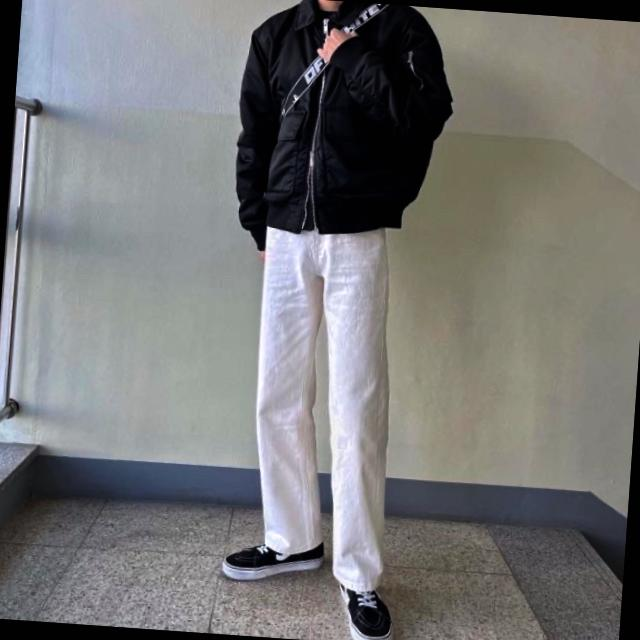cottonpants: (239, 215, 407, 596)
jacket: (227, 0, 459, 259)
